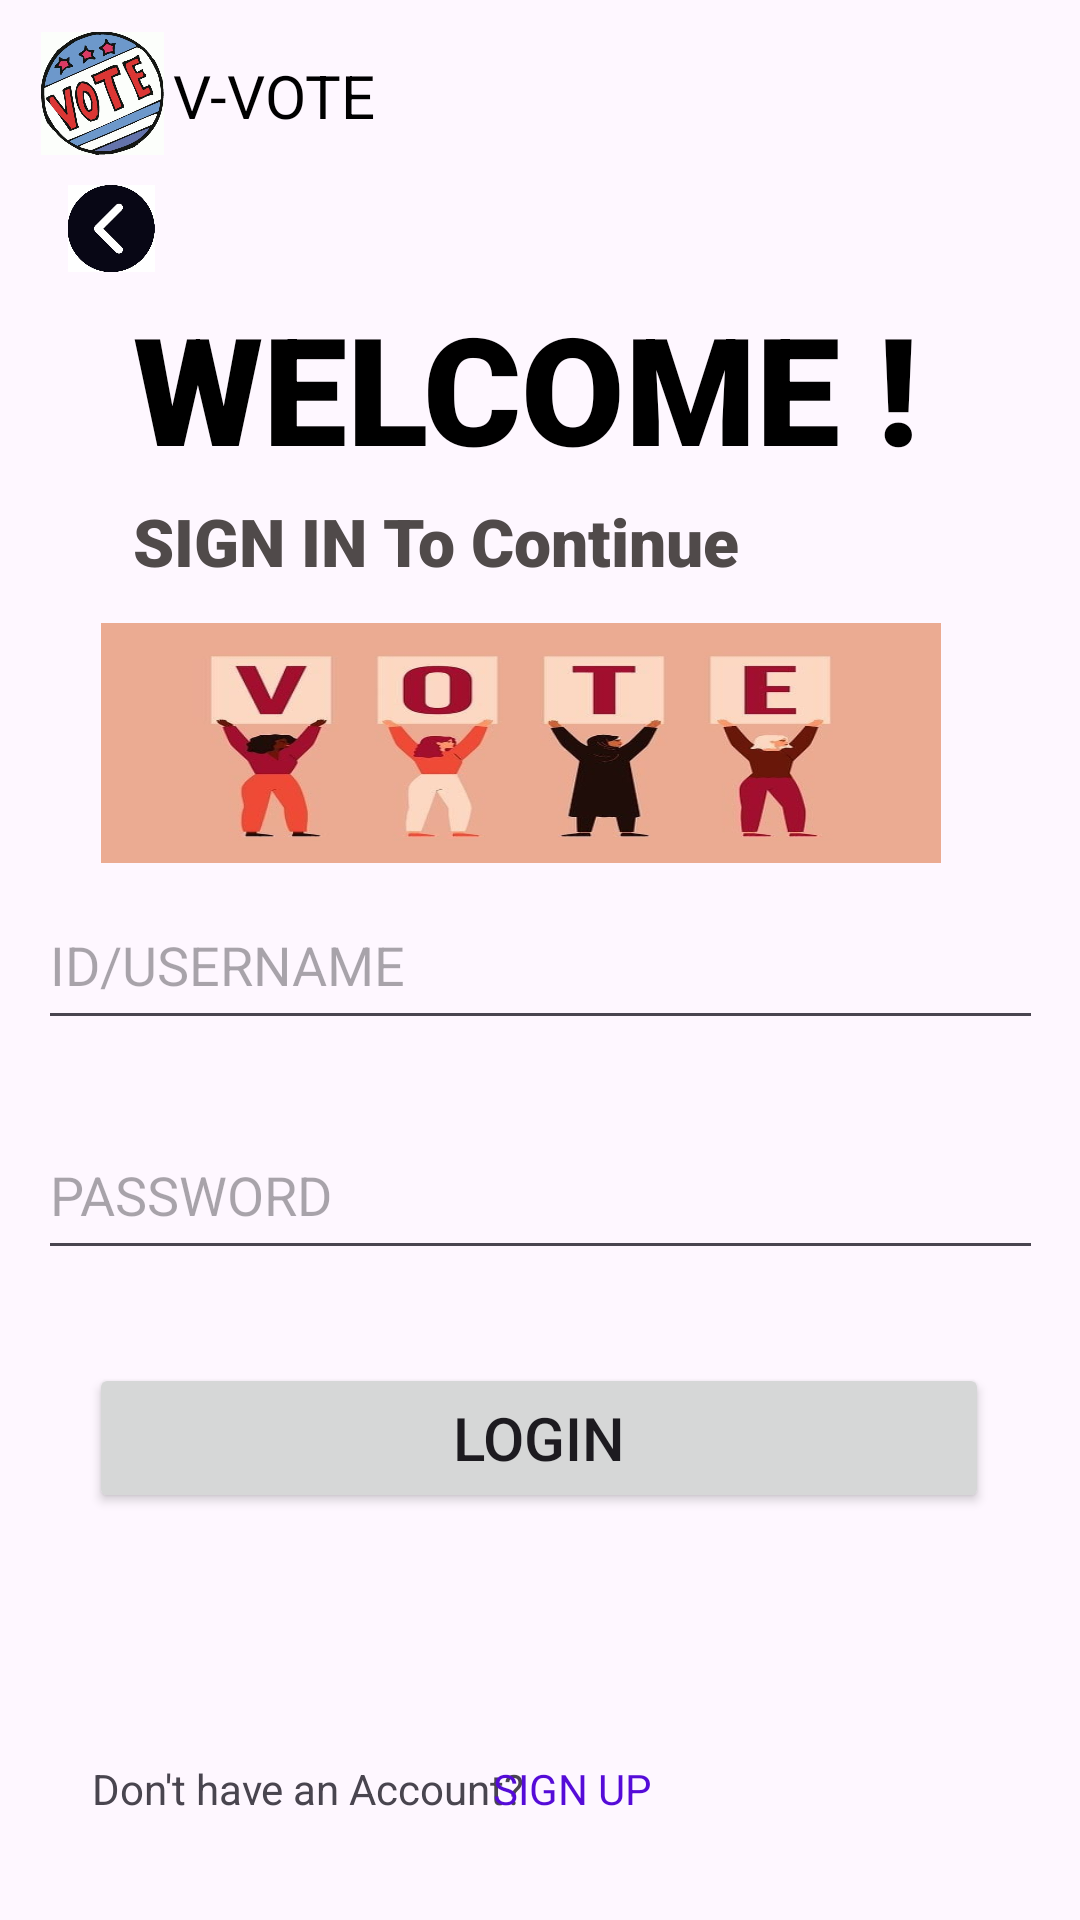

Icons on this 1080px x 1920px Android screen, each with its box as (x1, y1, x2, y2):
back: (68, 185, 155, 272)
